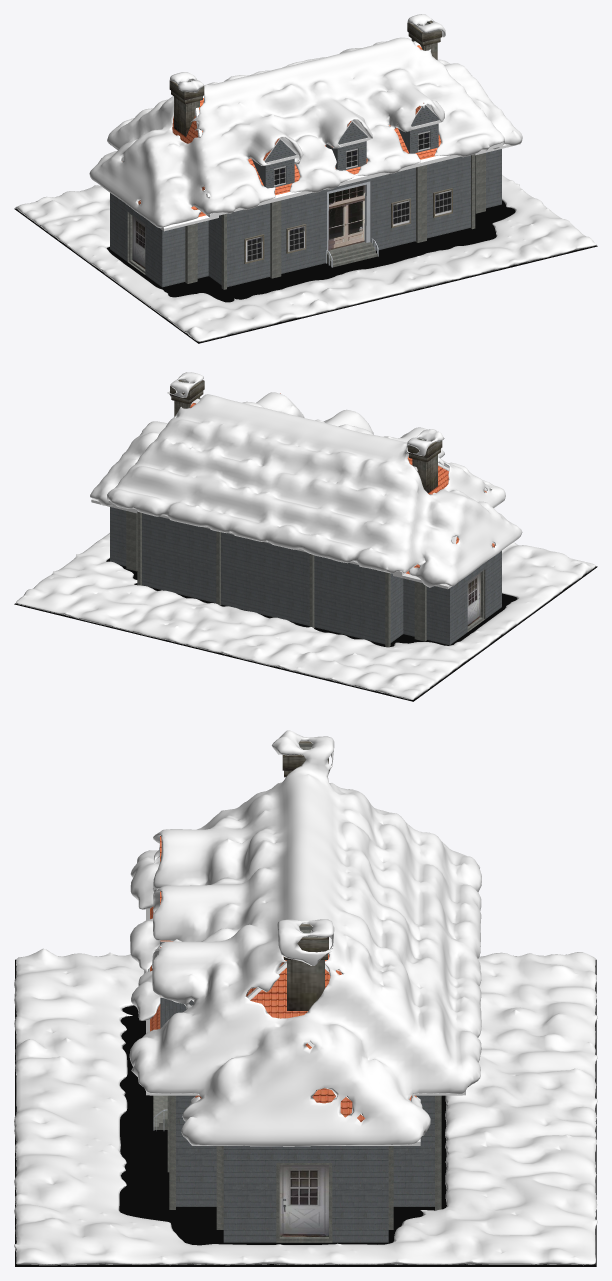
File: House_S5P2.glb
3 views of the same model, one above another, from view 1: azimuth 30°, elevation 25°; view 2: azimuth 150°, elevation 25°; view 3: azimuth 270°, elevation 25° (orthographic). The views are drawn at different scales.
Visible parts, largest first — view 1: SnowMesh, House1, Plane; view 2: SnowMesh, House1, Plane; view 3: SnowMesh, House1, Plane.
Part boxes in pixels (x1,y1,x2,y2): SnowMesh: (15,14,596,341); House1: (108,21,520,289); Plane: (14,200,597,343); SnowMesh: (16,372,595,699); House1: (91,380,501,647); Plane: (14,558,597,701); SnowMesh: (14,730,597,1265); House1: (146,741,465,1242); Plane: (15,959,596,1266).
Bounding box in the file's own units: 10.04 × 4.33 × 8.03.
Materials: 12 (9 with a texture image).
